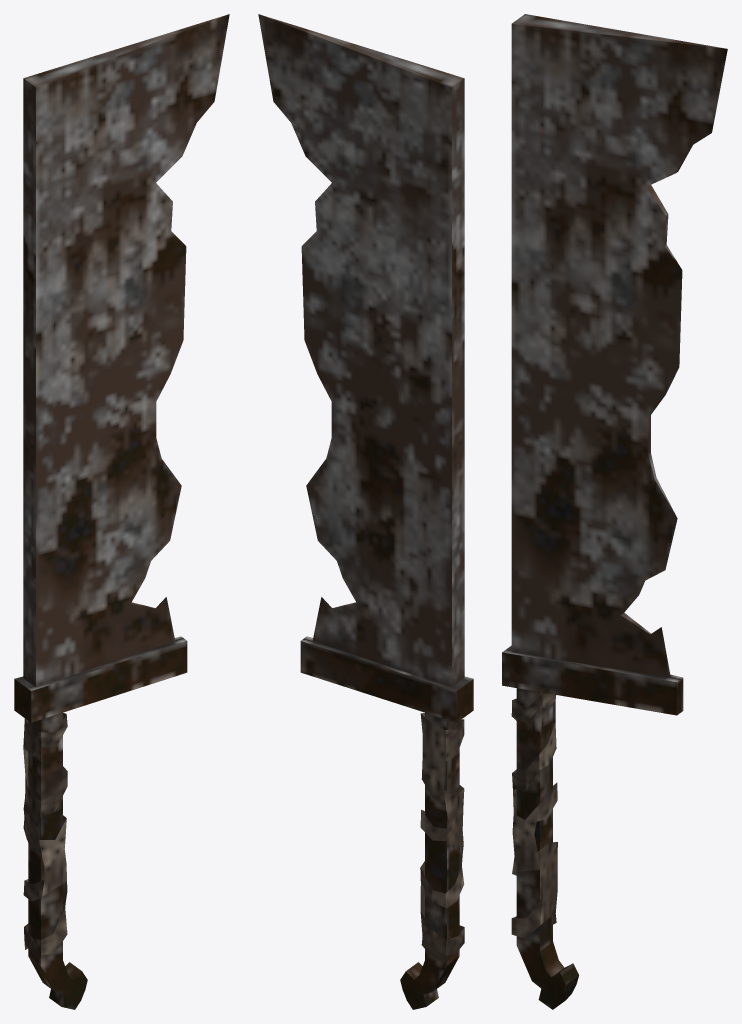
Rendered from Sword_01.fbx.
3 views of the same model, side by side, from view 1: azimuth 30°, elevation 25°; view 2: azimuth 150°, elevation 25°; view 3: azimuth 330°, elevation 25° (orthographic). The views are drawn at different scales.
Visible parts, largest first — view 1: Sword_01; view 2: Sword_01; view 3: Sword_01.
Part boxes in pixels (left/top/right/bottom): Sword_01: left=14, top=14, right=229, bottom=1009; Sword_01: left=258, top=14, right=473, bottom=1009; Sword_01: left=502, top=14, right=727, bottom=1009.
Bounding box in the file's own units: 23.21 × 102 × 3.81.
1 material, 1 textured.
